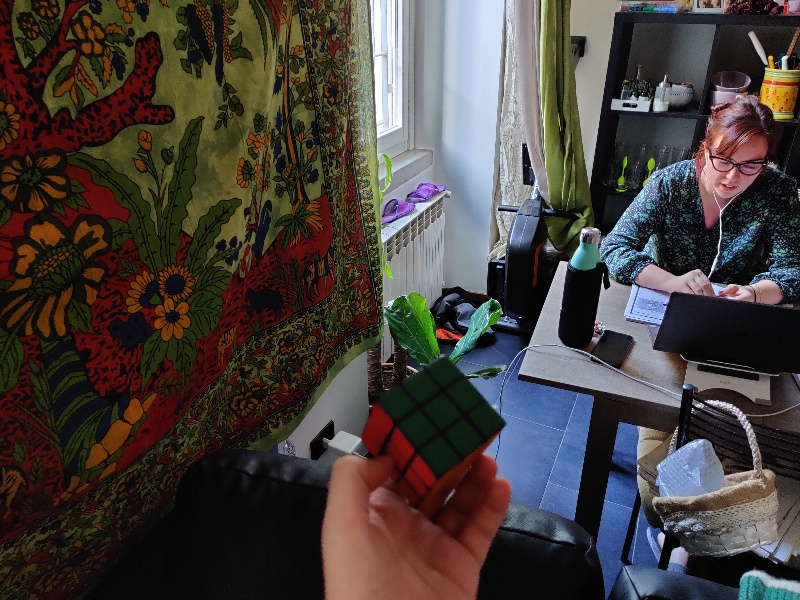rubik: (362, 360, 508, 513)
